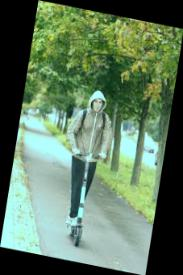nonhelmet: (51, 84, 121, 250)
